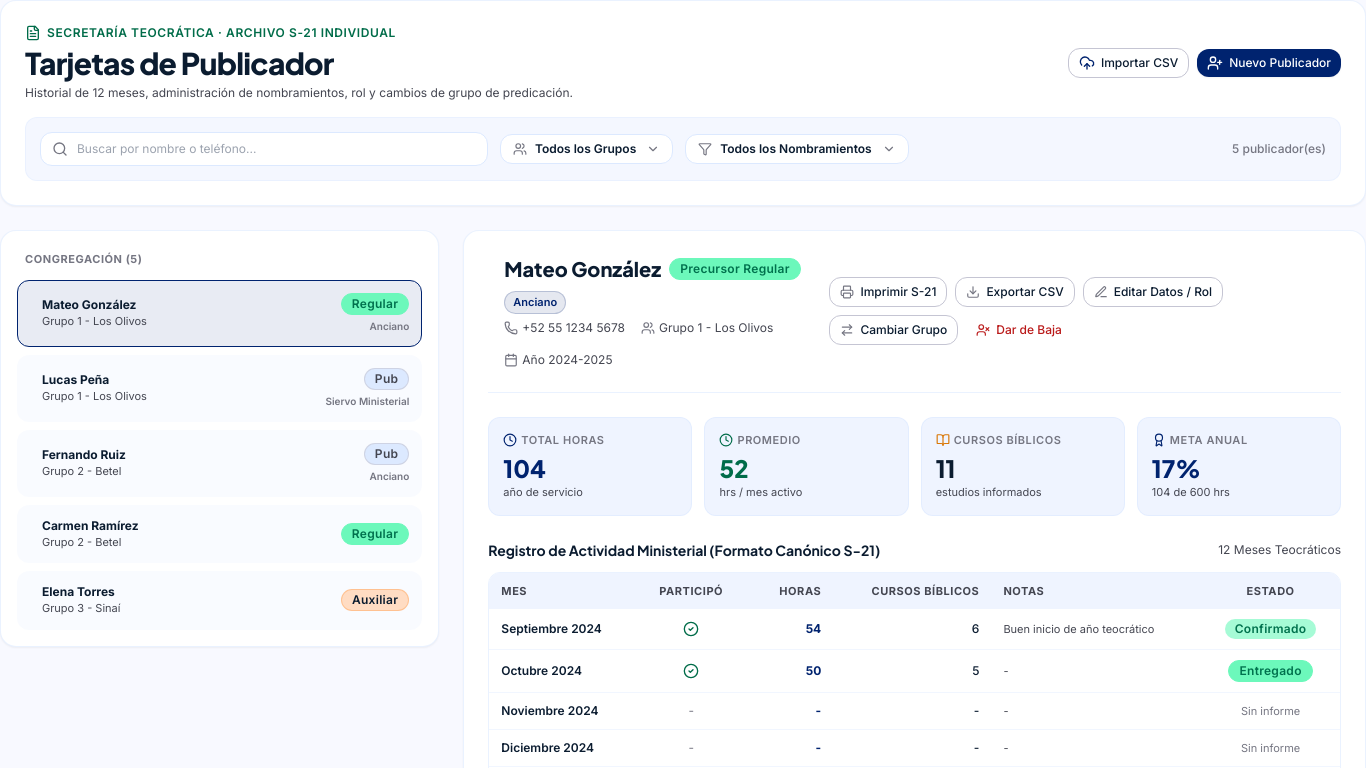
Test case: PublisherCardsPage › abre el modal de importación CSV al hacer clic en Importar CSV
Click the button "Importar CSV" at (1129, 63), box [1068, 48, 1189, 78]
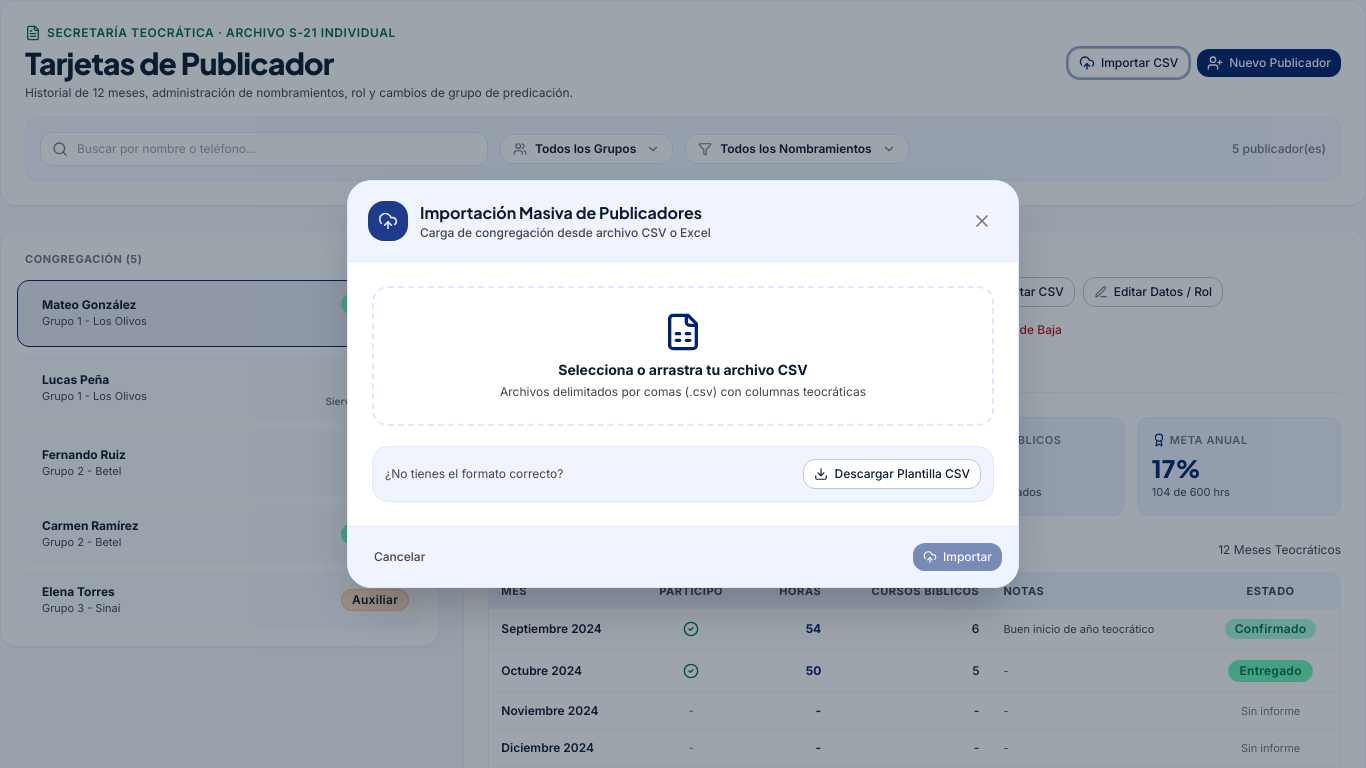
Check: the heading "Importación Masiva de Publicadores" is shown, box [420, 201, 711, 225]
